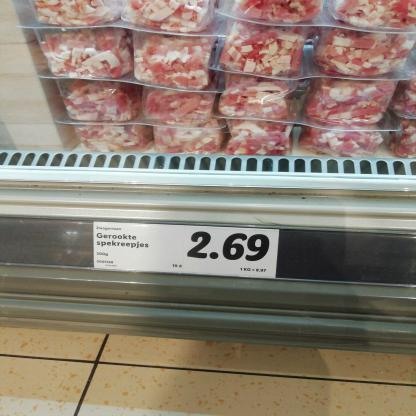prtg: (95, 222, 281, 280)
